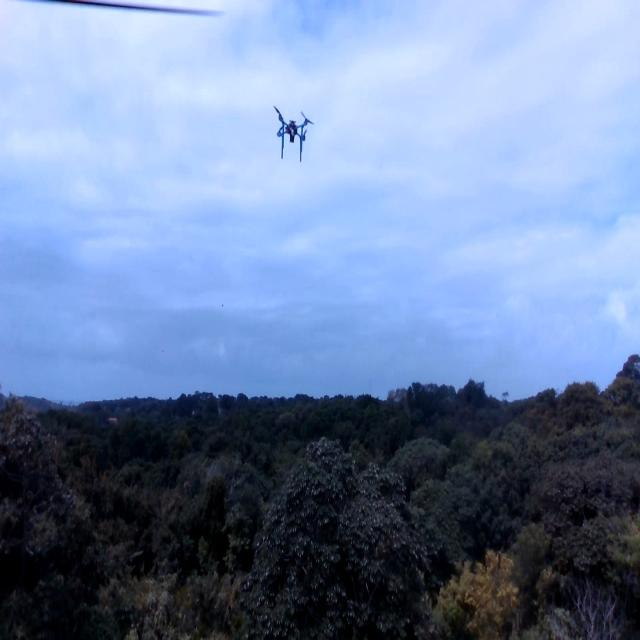-uav-: (265, 99, 320, 168)
